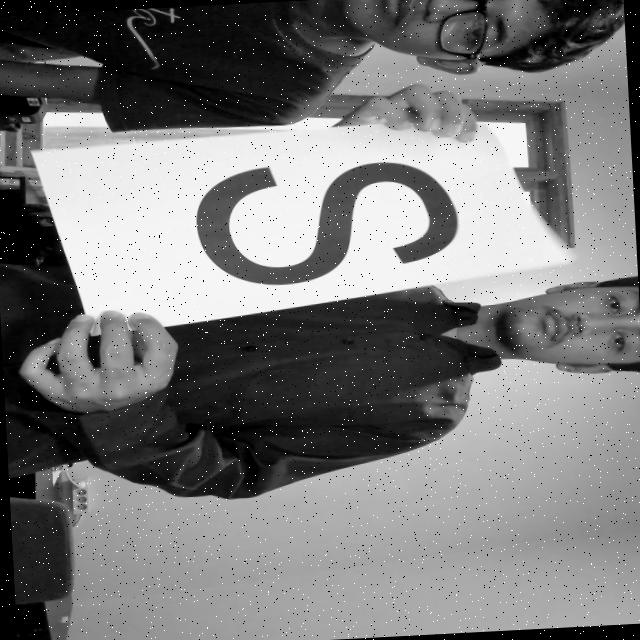s: (142, 139, 470, 310)
